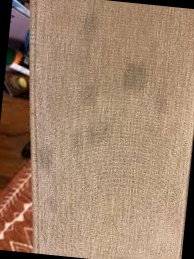oil: (73, 84, 115, 142), (121, 63, 156, 99), (34, 146, 59, 169)
